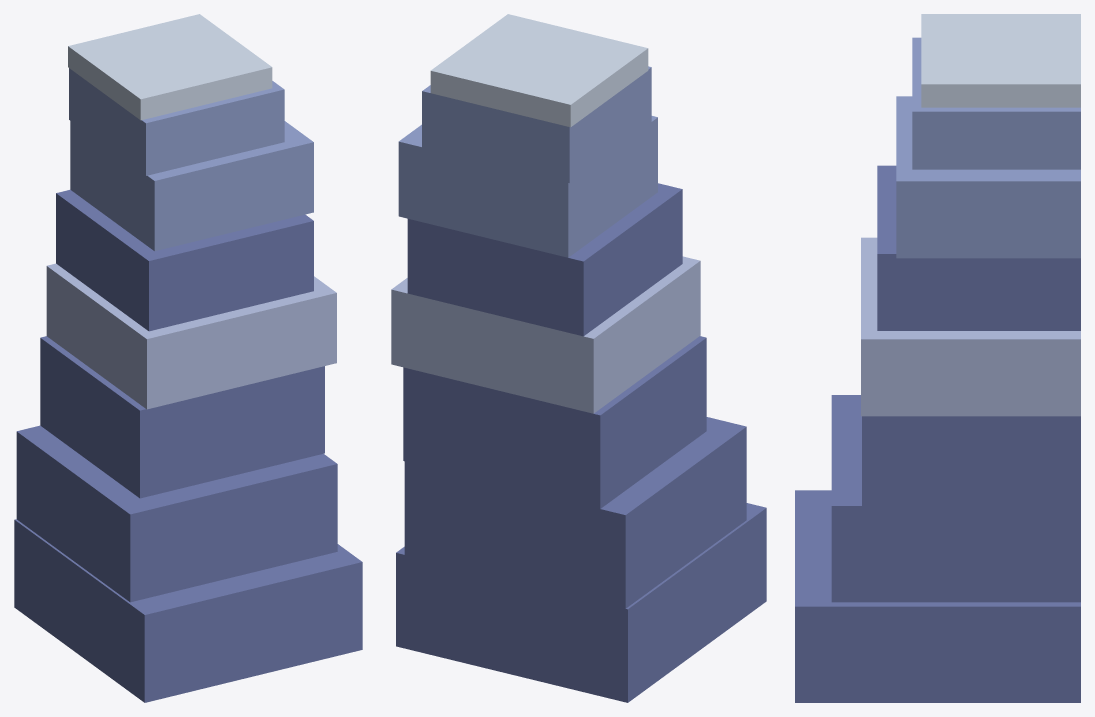
The model's file is IceButtress.glb.
The picture shows the model from 3 angles, left to right: view 1: azimuth 30°, elevation 25°; view 2: azimuth 150°, elevation 25°; view 3: azimuth 270°, elevation 25°; orthographic projection. The views are drawn at different scales.
Visible parts, largest first — view 1: IceButtress; view 2: IceButtress; view 3: IceButtress.
Boxes of the visible parts, box(x1,y1,x2,y2) form: IceButtress: box(14, 14, 362, 702); IceButtress: box(391, 14, 766, 702); IceButtress: box(795, 14, 1080, 702).
Bounding box in the file's own units: 6.61 × 15.6 × 6.72.
Materials: 1 (1 with a texture image).
